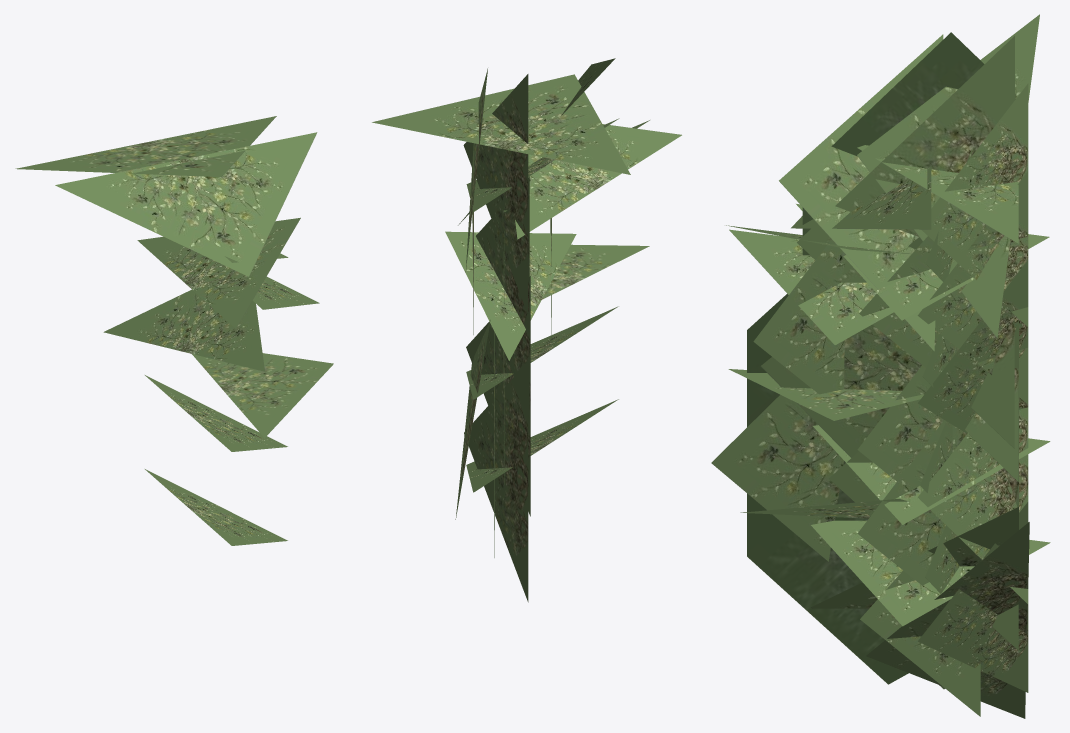
The model's file is caen_hedge_wall_2.glb.
3 renders of one model, left to right at view 1: azimuth 30°, elevation 25°; view 2: azimuth 150°, elevation 25°; view 3: azimuth 270°, elevation 25°, orthographic. The views are drawn at different scales.
Size of the model in its own units: 180 by 443 by 189.
Materials: 1 (1 with a texture image).
